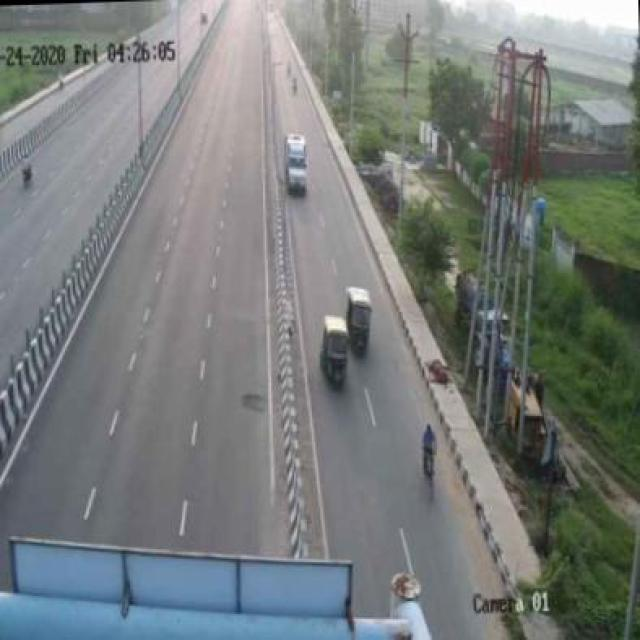car: (278, 127, 318, 198)
